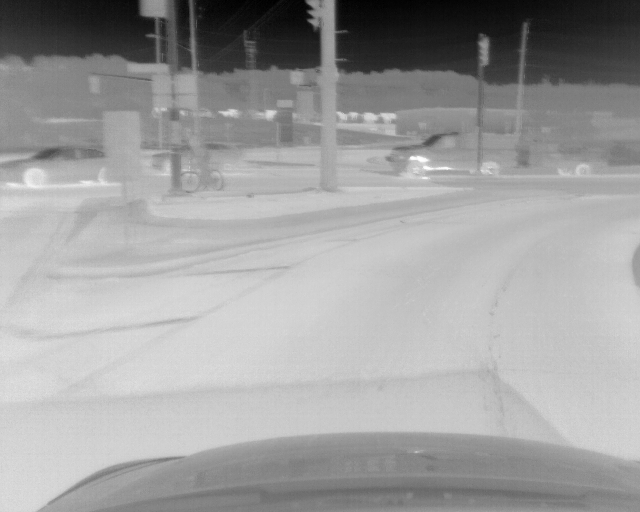bike: (178, 157, 226, 193)
car: (386, 133, 609, 177), (1, 145, 106, 186), (153, 142, 236, 174)
people: (184, 133, 215, 184)
